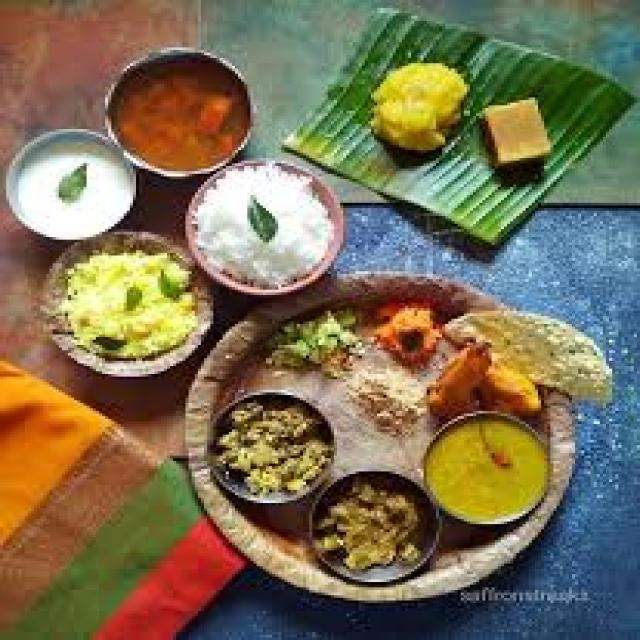curd: (184, 158, 355, 295), (2, 132, 143, 246)
dal: (44, 239, 207, 379), (421, 412, 563, 526)
papad: (431, 306, 621, 408)
rice: (202, 394, 336, 501)
sambar-rasam: (108, 53, 252, 168)
sweet: (307, 474, 441, 582)
